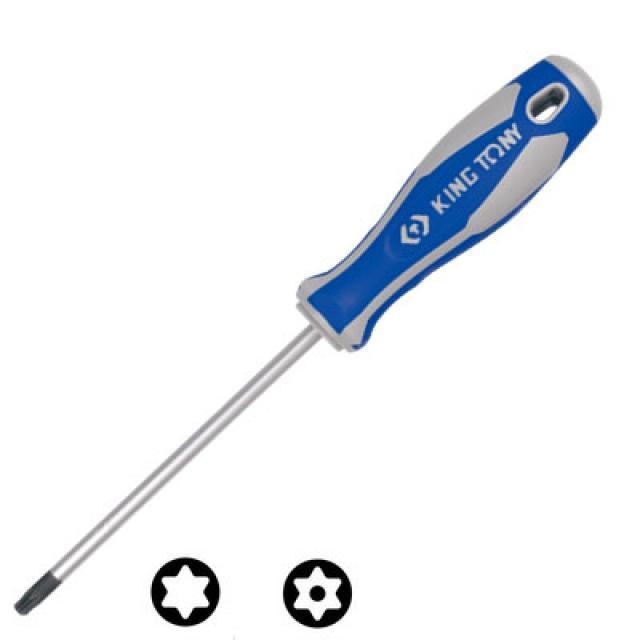screwdriver: (7, 49, 615, 622)
